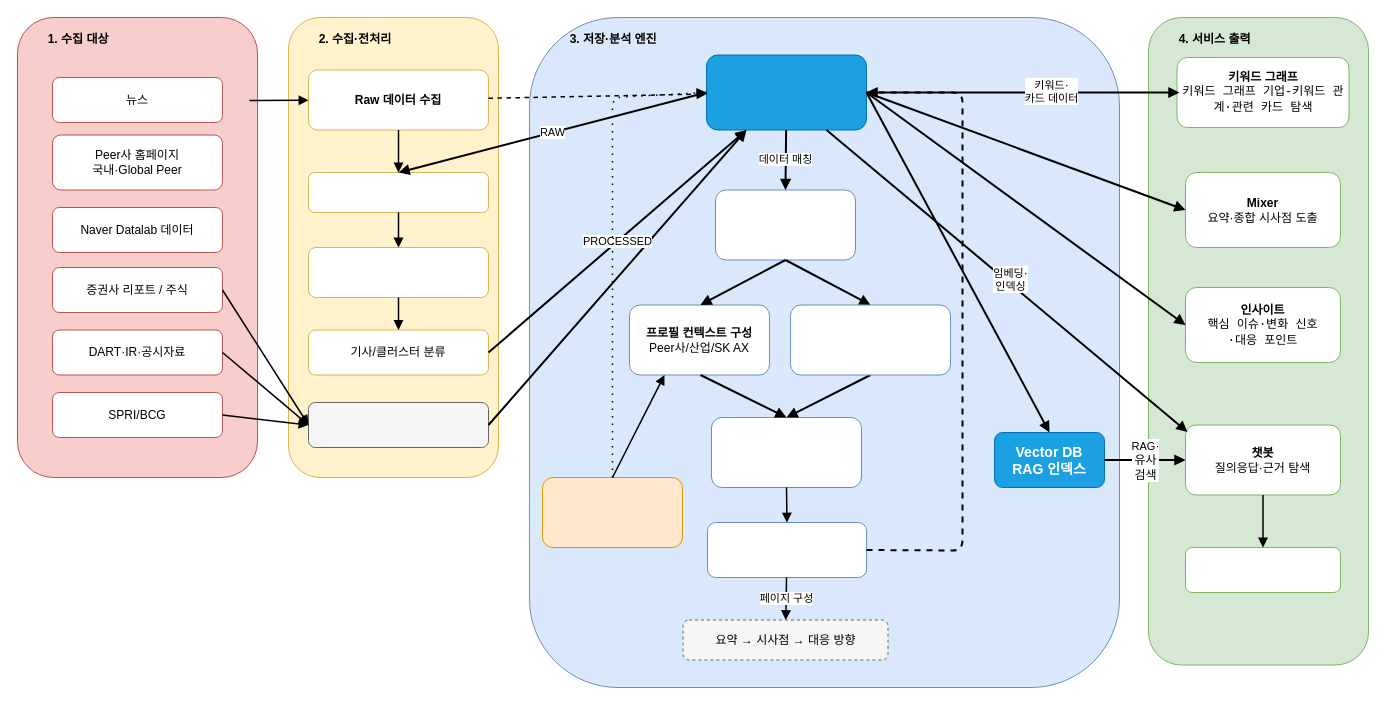
The diagram is 1386 pixels wide and 705 high, and some of its shapes have lost their labels. The centre of each missing label's shape, as x and y in pixels:
"RDB 원문·카드 뉴스 ·분석 메타데이터 저장" goes at (x=786, y=92).
"Settings 개인화 SK AX 데이터 입력" goes at (x=612, y=512).
"관련성 평가" goes at (x=398, y=192).
"데이터 매칭 기업·키워드·날짜 기준 연결" goes at (x=785, y=224).
"문서 파싱 및 품질 점검" goes at (x=398, y=425).
"보고서 생성 PDF 저장/출력" goes at (x=1262, y=569).
"분석 컨텍스트 구성 이벤트/재무/섹터/유사 사례연결" goes at (x=870, y=339).
"중복 제거 및 클러스터링" goes at (x=398, y=272).
"카드뉴스 생성 요약·핵심 내용·시사점" goes at (x=786, y=550).
"통합 이슈·전략 분석 관련 기사 묶음 -> 핵심 사건" goes at (x=786, y=452).
